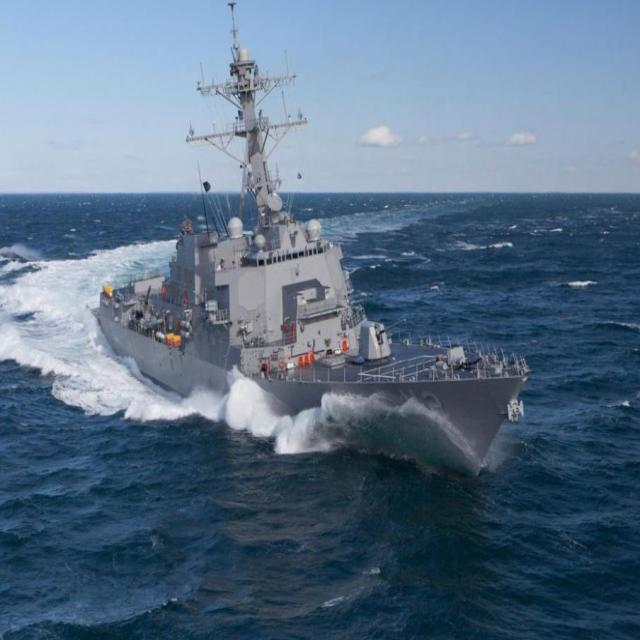navalvessels: (91, 19, 528, 447)
